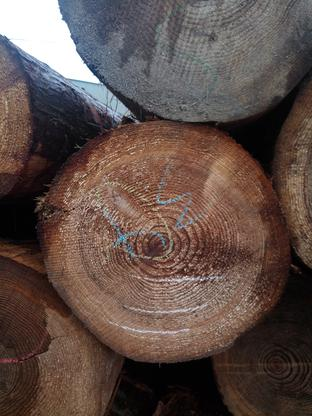mood: (39, 122, 291, 363)
